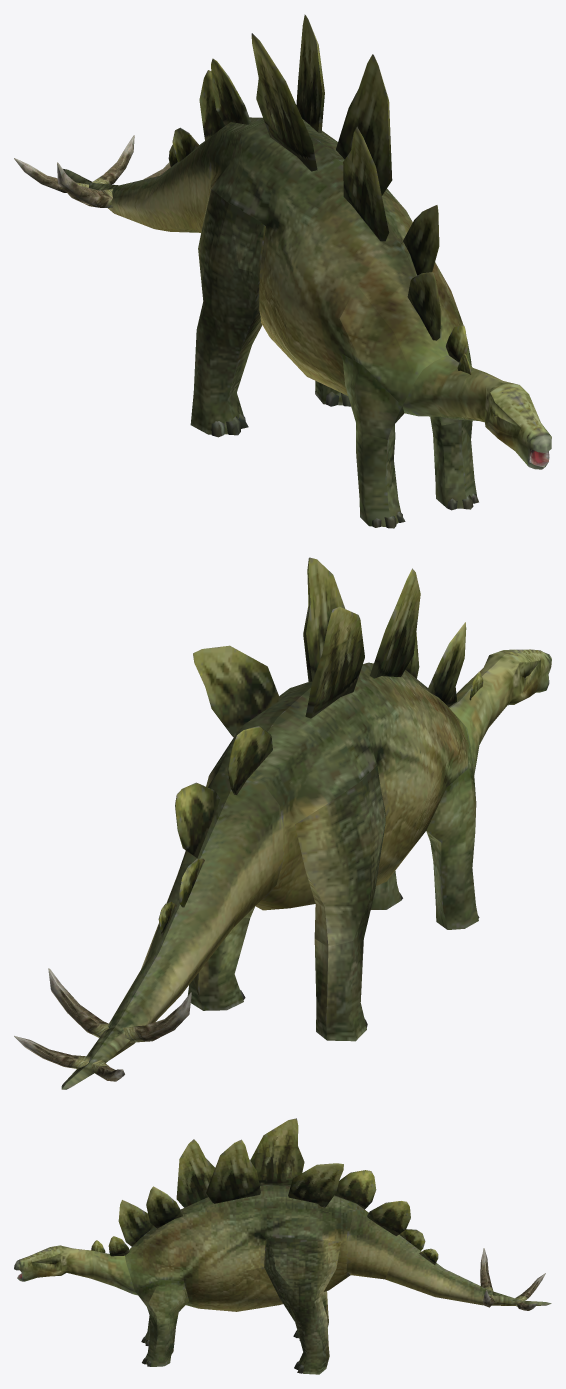
Rendered from steg.obj.
The picture shows the model from 3 angles, top to bottom: view 1: azimuth 30°, elevation 25°; view 2: azimuth 150°, elevation 25°; view 3: azimuth 270°, elevation 25°; orthographic projection. The views are drawn at different scales.
Visible parts, largest first — view 1: eyelids_mesh; view 2: eyelids_mesh; view 3: eyelids_mesh.
Part boxes in pixels (left/top/right/bottom): eyelids_mesh: left=14, top=14, right=551, bottom=528; eyelids_mesh: left=14, top=557, right=551, bottom=1089; eyelids_mesh: left=14, top=1118, right=551, bottom=1374.
Bounding box in the file's own units: 0.6008 × 1.39 × 3.04.
Materials: 1 (1 with a texture image).
